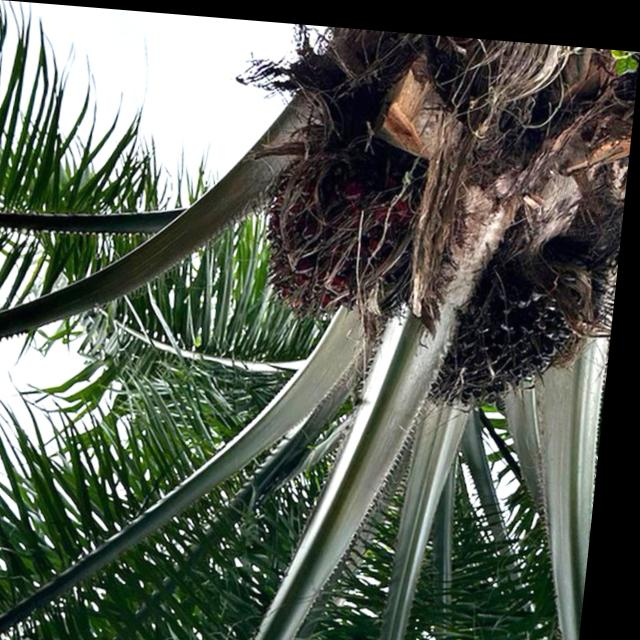ripe: (276, 154, 436, 335)
